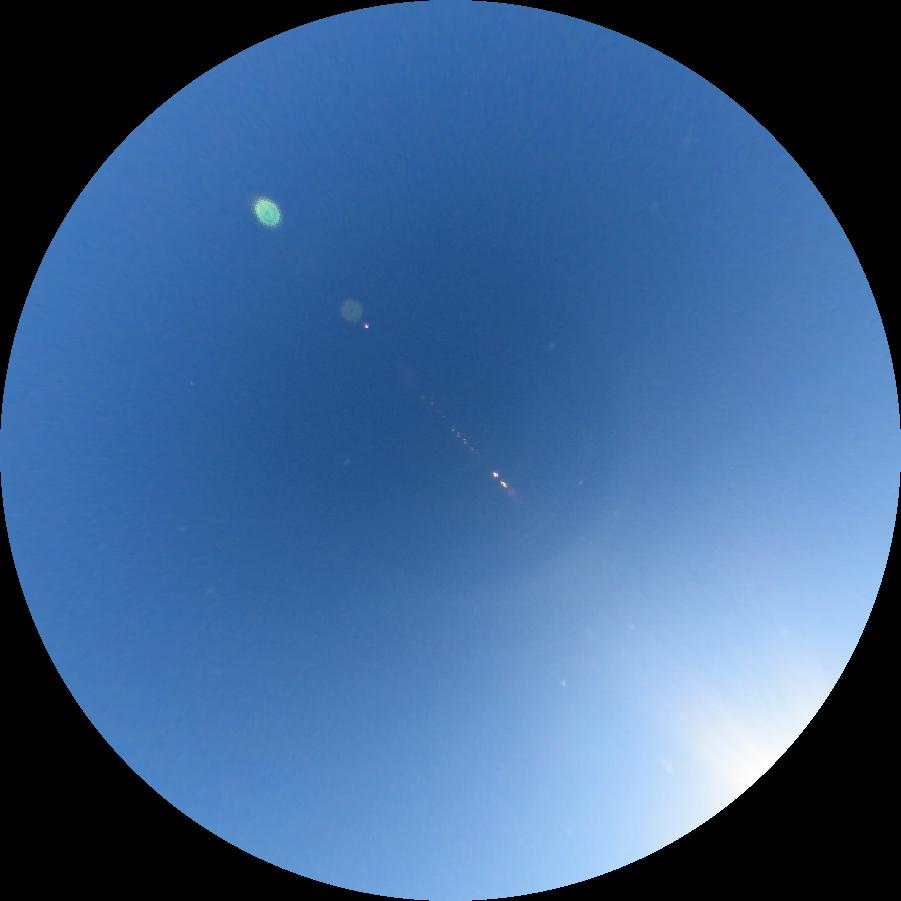sun: (722, 747, 781, 804)
